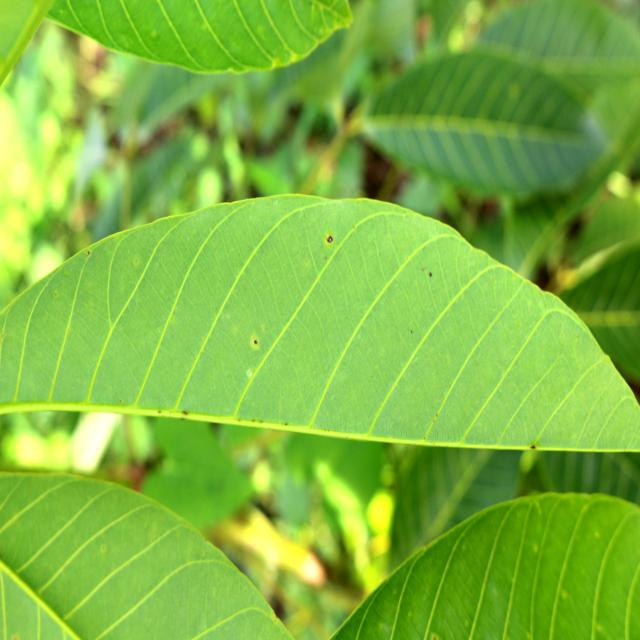Colletotrichum: (327, 236, 333, 243)
